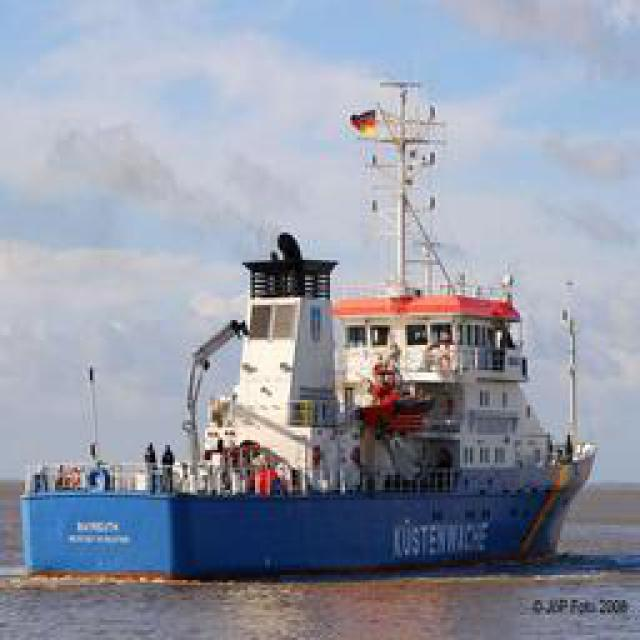Ship: (20, 165, 605, 578)
